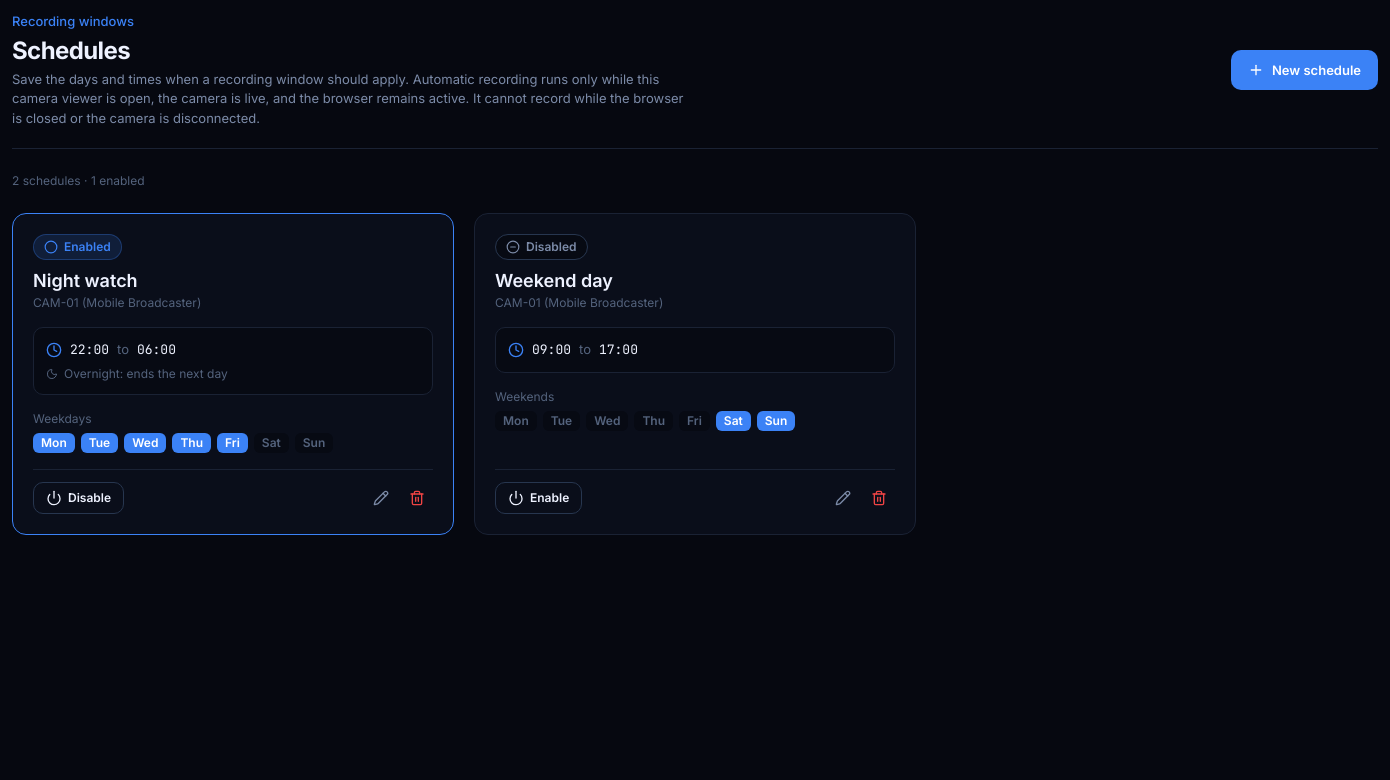
Scenario: ScheduleManager › toggles a schedule with PUT {is_active} and confirms
The image size is (1390, 780).
Expected: the heading "Night watch" is shown, x1=33 y1=270 x2=138 y2=291
Click the button with aria-label "disable schedule night watch": click(78, 498) x1=33 y1=482 x2=124 y2=514
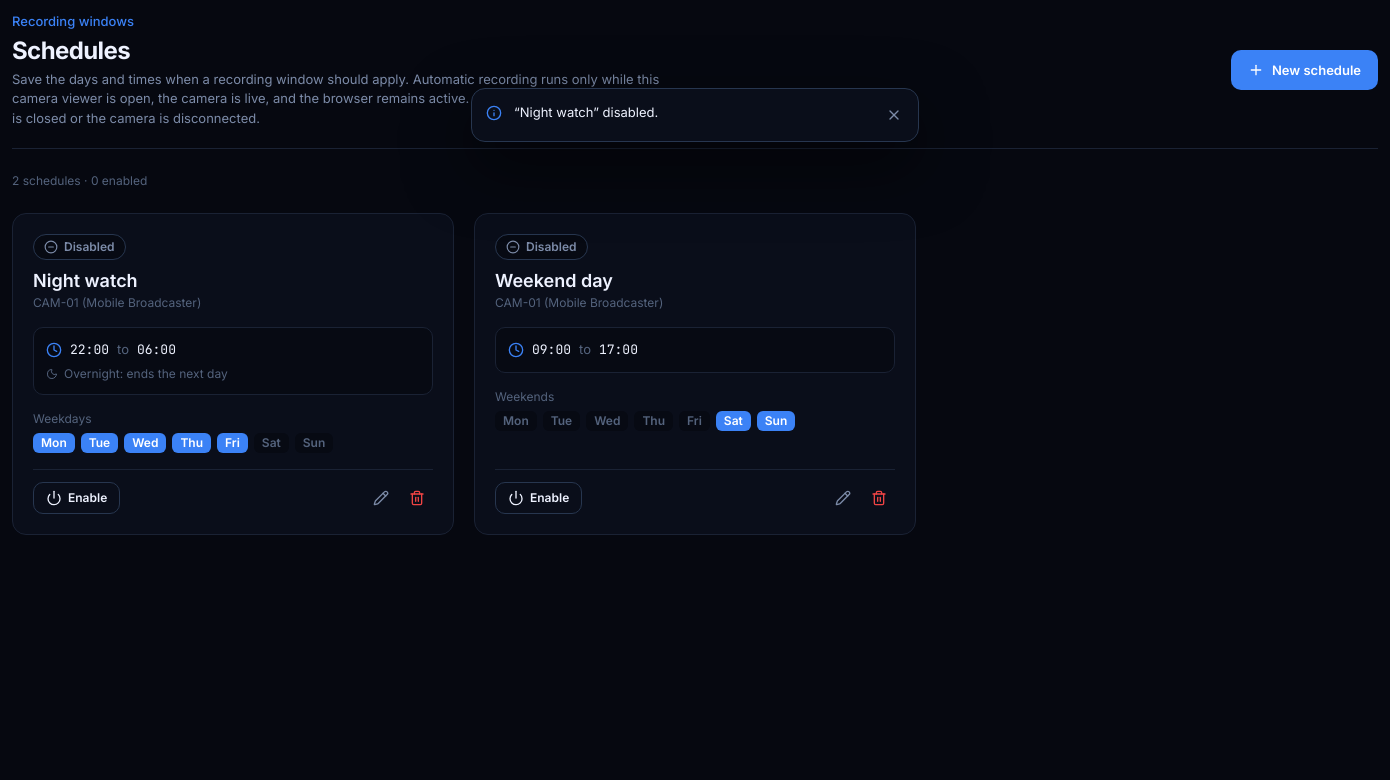
Expected: the text "“Night watch” disabled." is shown, x1=514 y1=104 x2=658 y2=120
